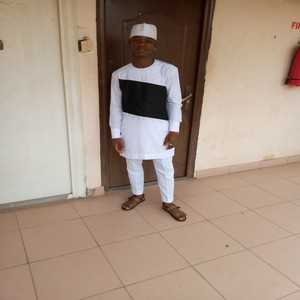Fulokoja_male_student: (111, 27, 187, 221)
